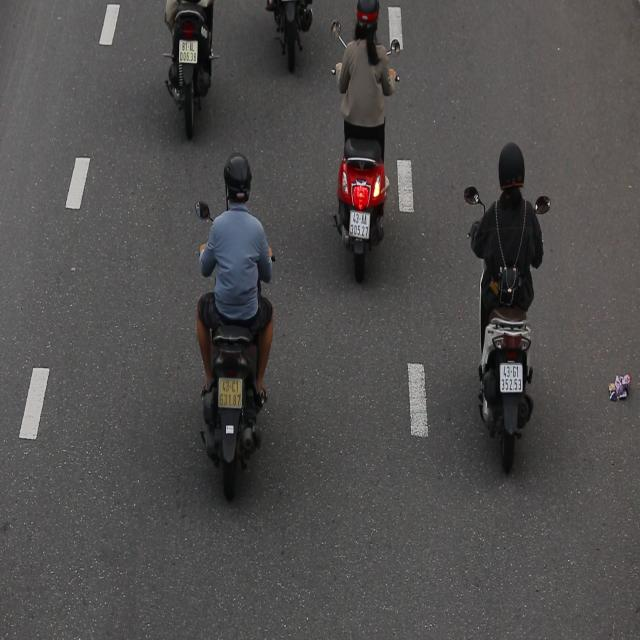motorbike: (187, 151, 285, 526), (463, 127, 556, 485), (322, 0, 408, 287)
